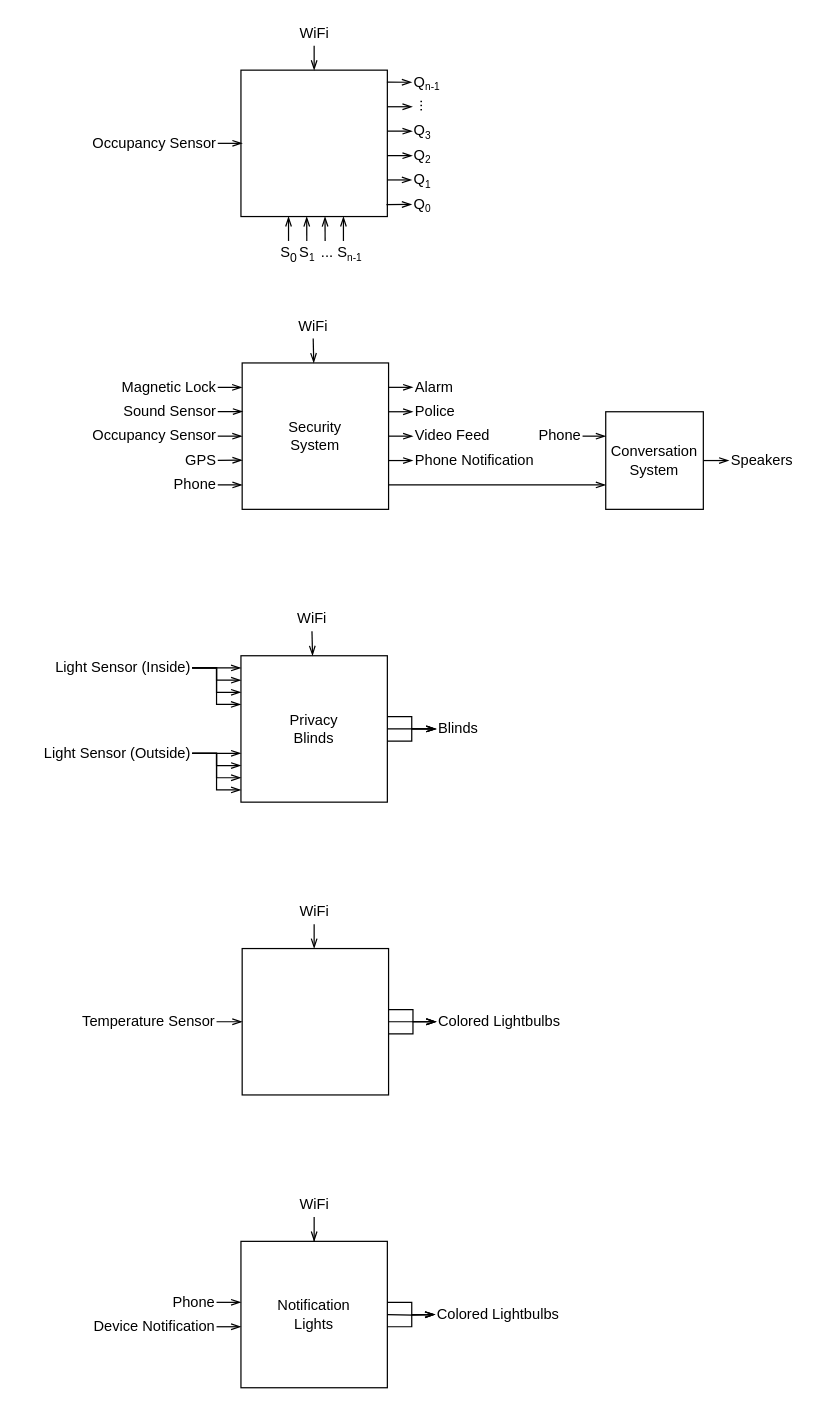
The diagram is 834 pixels wide and 1409 high, and some of its shapes have lost their labels. The shapes that lost their labels are listed below. From the top down, each one's centre as x and y in pixels, then its label:
At point 313,143: "Follow-Me Room Activation System".
At point 315,1021: "Temperature-Colored Bulbs".
